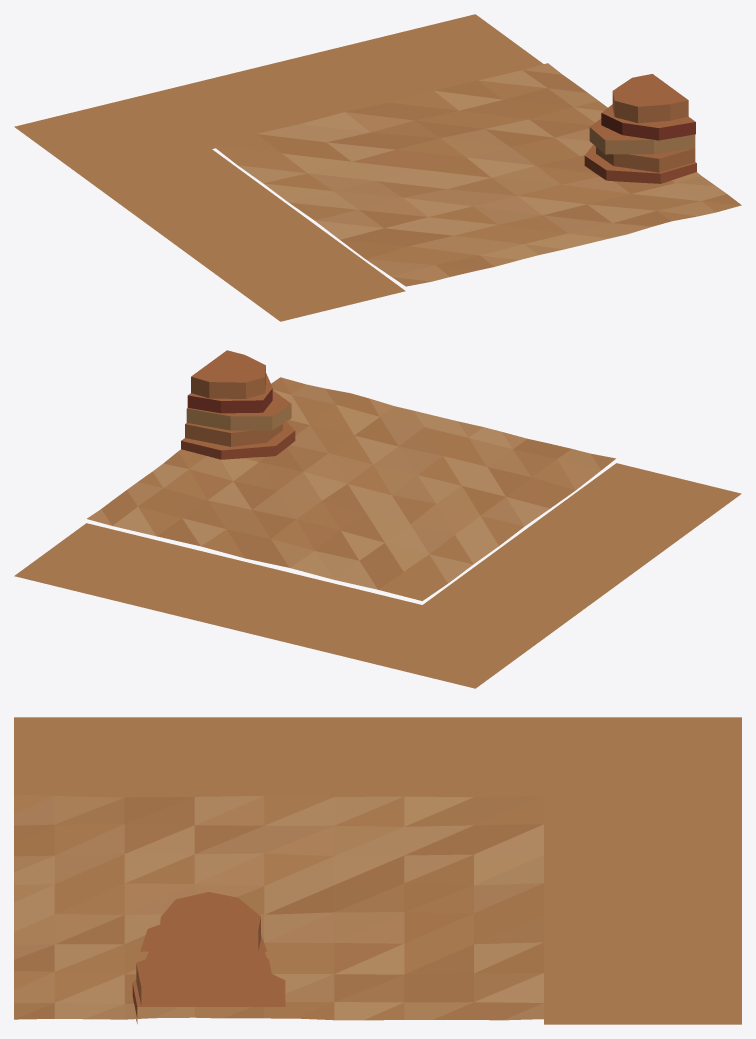
3 views of the same model, one above another, from view 1: azimuth 30°, elevation 25°; view 2: azimuth 150°, elevation 25°; view 3: azimuth 270°, elevation 25° (orthographic). The views are drawn at different scales.
Parts seen in each view (by area): view 1: baked; view 2: baked; view 3: baked.
Part boxes in pixels (bbox=[...]): baked: bbox=[14, 14, 741, 321]; baked: bbox=[14, 350, 741, 688]; baked: bbox=[14, 717, 741, 1024].
Bounding box in the file's own units: 125 × 18.11 × 125.
